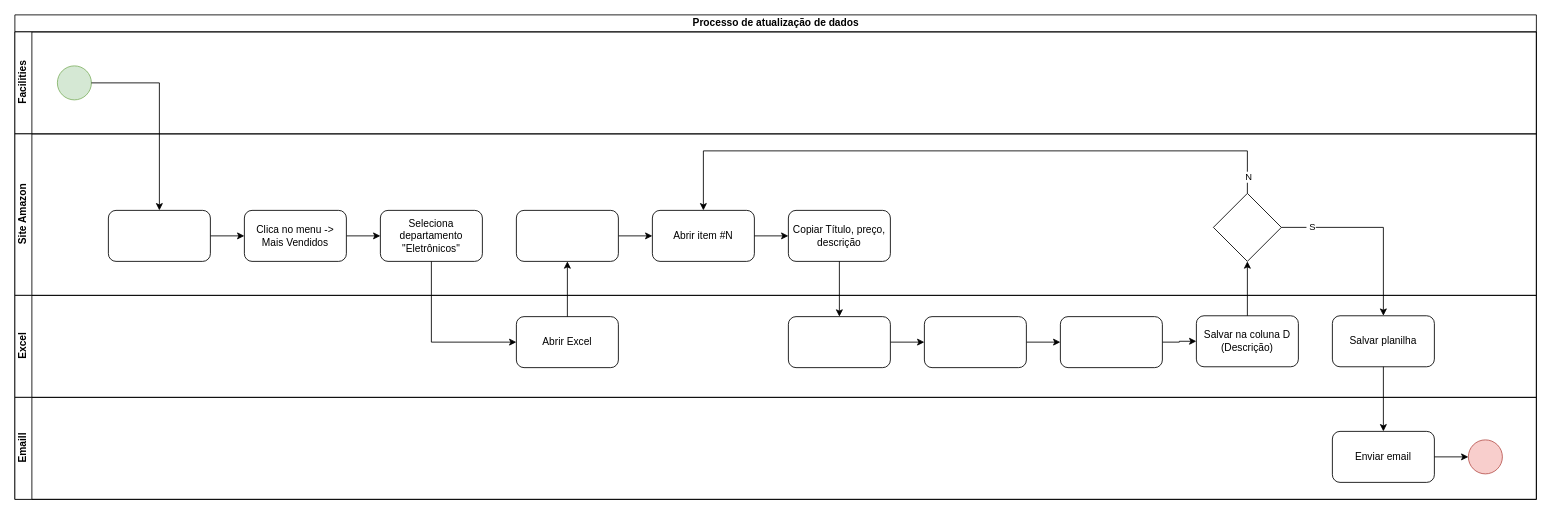
Some shapes in this 1551 by 514 pixel diagram are drawn without their labels. Each missing label, with the box of its shape:
Acessa o site www.amazon.com.br: (108, 210, 210, 261)
Identifica itens #1, #2, #n...: (516, 210, 618, 261)
Item 50 ?: (1213, 193, 1281, 261)
Salvar na coluna A o número do # (Ordem): (788, 316, 890, 368)
Salvar na coluna B (Titulo): (924, 316, 1026, 368)
Salvar na coluna C (Preço): (1060, 316, 1162, 368)
